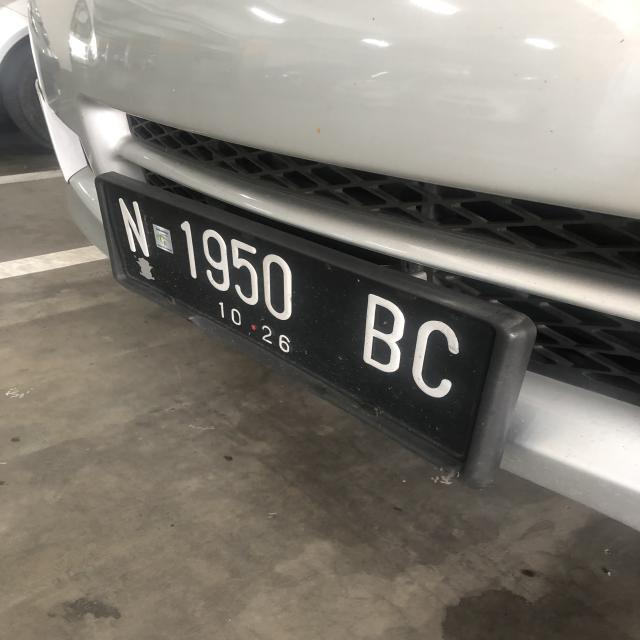0: (261, 250, 293, 322)
1: (177, 218, 202, 280)
5: (230, 238, 260, 308)
9: (203, 229, 230, 293)
B: (361, 289, 406, 374)
C: (411, 314, 463, 400)
N: (118, 194, 154, 258)
